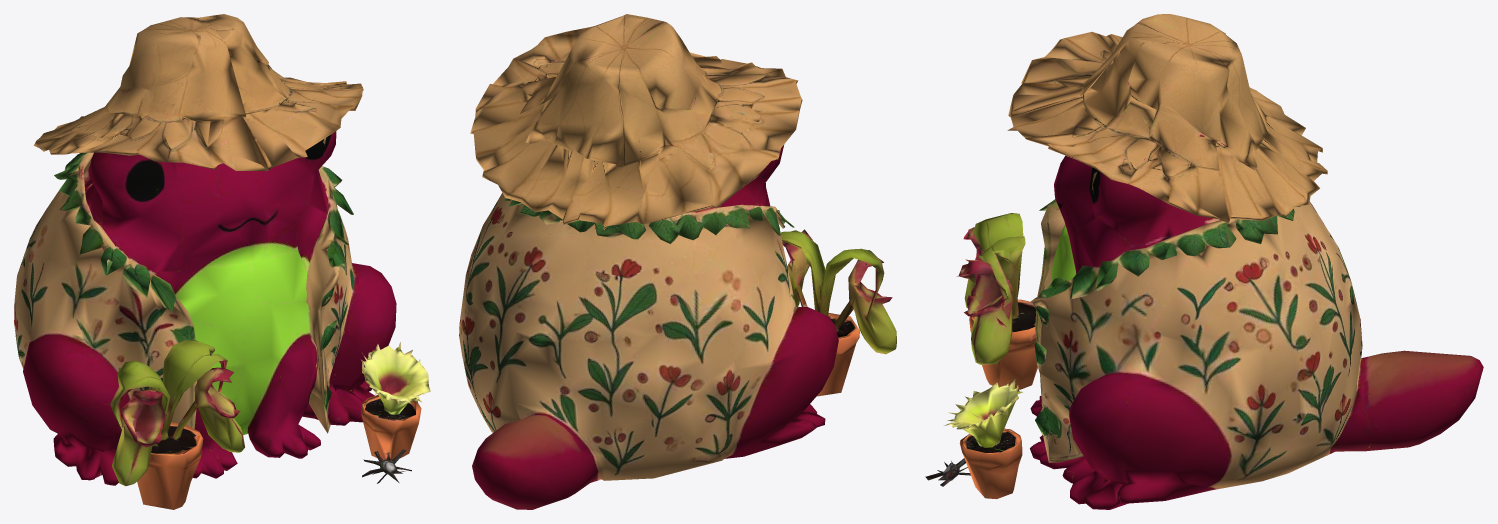
File: carnivore.glb
3 views of the same model, side by side, from view 1: azimuth 30°, elevation 25°; view 2: azimuth 150°, elevation 25°; view 3: azimuth 270°, elevation 25° (orthographic). The views are drawn at different scales.
Parts seen in each view (by area): view 1: mesh_node; view 2: mesh_node; view 3: mesh_node.
Part boxes in pixels (x1,y1,x2,y2): mesh_node: (14,14,430,509); mesh_node: (459,14,896,509); mesh_node: (925,14,1483,509).
Bounding box in the file's own units: 1.41 × 1.54 × 1.9.
1 material, 1 textured.
